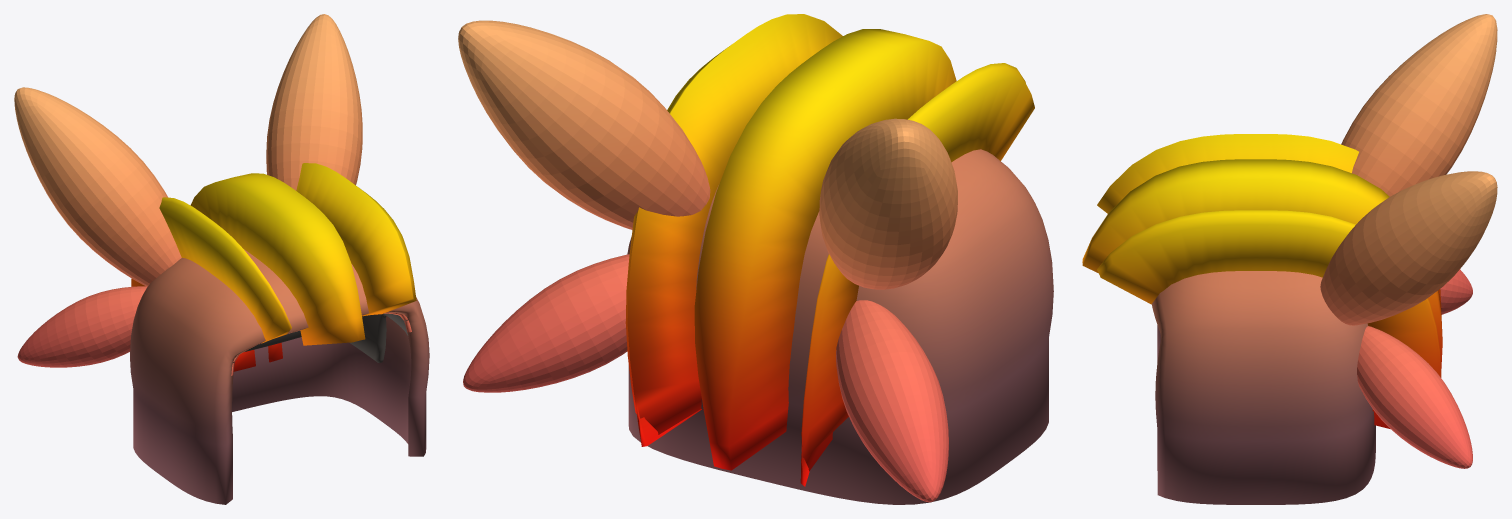
The model's file is HairStyles_01.fbx.
The picture shows the model from 3 angles, left to right: view 1: azimuth 30°, elevation 25°; view 2: azimuth 150°, elevation 25°; view 3: azimuth 270°, elevation 25°; orthographic projection. The views are drawn at different scales.
Parts seen in each view (by area): view 1: Hair_02, Hair_03, MohawkHair, Hair_01; view 2: MohawkHair, Hair_03, Hair_02; view 3: Hair_02, Hair_03, MohawkHair.
Part boxes in pixels (left/top/right/bottom): Hair_02: left=130, top=249, right=429, bottom=504; Hair_03: left=14, top=14, right=411, bottom=375; MohawkHair: left=131, top=163, right=416, bottom=371; Hair_01: left=244, top=313, right=408, bottom=362; MohawkHair: left=625, top=14, right=1034, bottom=486; Hair_03: left=458, top=20, right=957, bottom=502; Hair_02: left=627, top=149, right=1053, bottom=504; Hair_02: left=1151, top=271, right=1375, bottom=504; Hair_03: left=1320, top=14, right=1497, bottom=468; MohawkHair: left=1082, top=134, right=1442, bottom=428.
Bounding box in the file's own units: 1.34 × 1.24 × 1.34.
